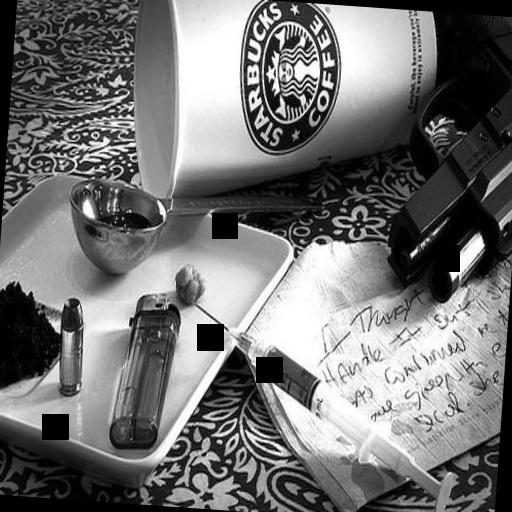Handgun: (387, 10, 512, 315)
